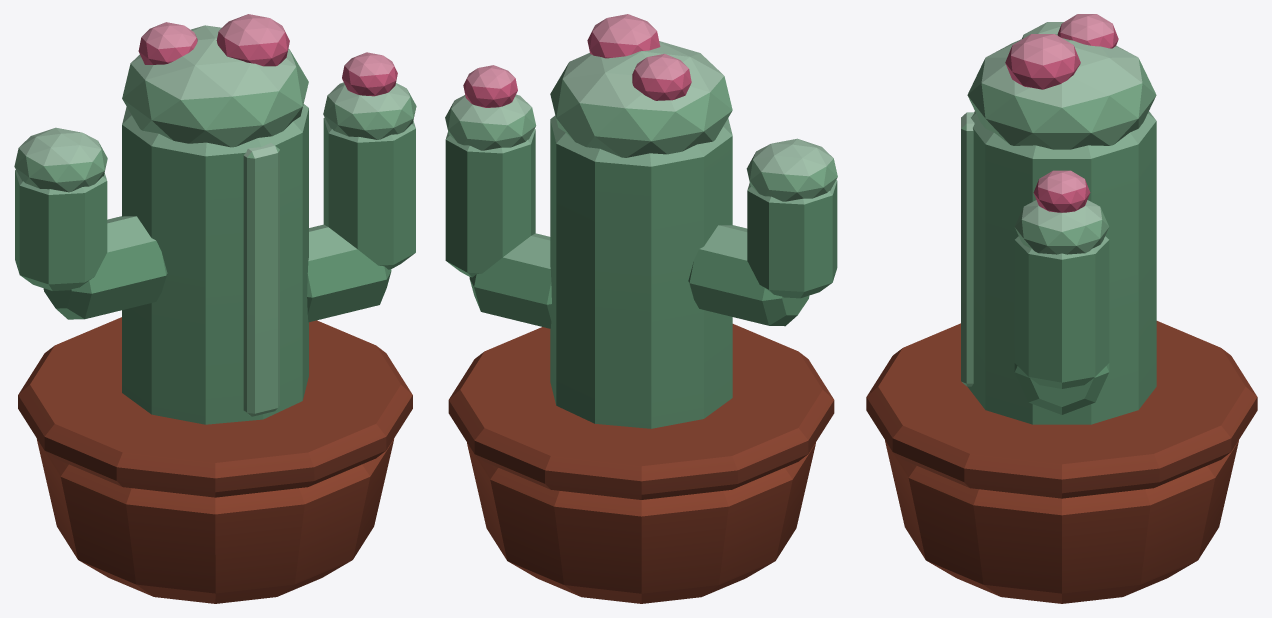
File: cactus.glb
3 renders of one model, left to right at view 1: azimuth 30°, elevation 25°; view 2: azimuth 150°, elevation 25°; view 3: azimuth 270°, elevation 25°, orthographic. The views are drawn at different scales.
Parts seen in each view (by area): view 1: mesh_cactus; view 2: mesh_cactus; view 3: mesh_cactus.
Boxes of the visible parts, <box> form: mesh_cactus: <box>14,14,416,603</box>; mesh_cactus: <box>445,14,837,603</box>; mesh_cactus: <box>866,14,1257,603</box>.
Bounding box in the file's own units: 0.71 × 0.925 × 0.62.
